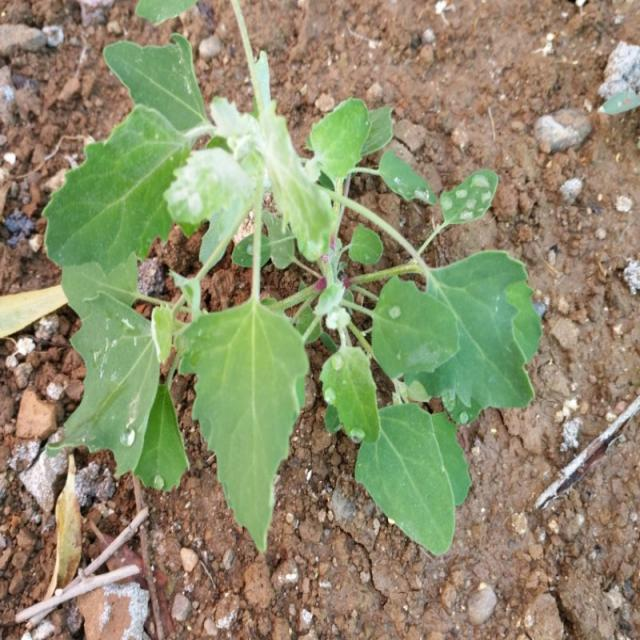ca: (44, 96, 545, 556)
